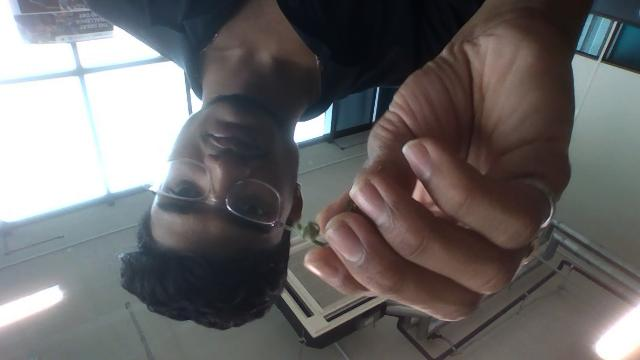Fruit Bud: (297, 222, 320, 242)
